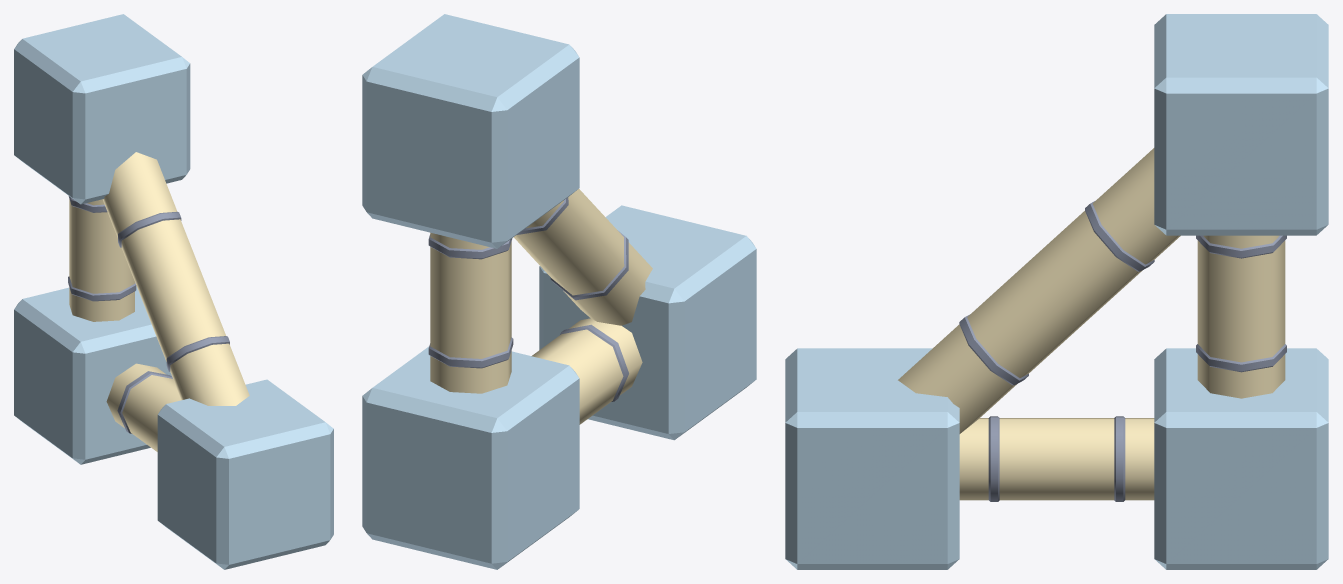
The model's file is R4C_STRUT_RAMP_LOD1.glb.
3 views of the same model, side by side, from view 1: azimuth 30°, elevation 25°; view 2: azimuth 150°, elevation 25°; view 3: azimuth 270°, elevation 25° (orthographic). The views are drawn at different scales.
Visible parts, largest first — view 1: R4C_STRUT_RAMP_LOD1; view 2: R4C_STRUT_RAMP_LOD1; view 3: R4C_STRUT_RAMP_LOD1.
Part boxes in pixels (x1,y1,x2,y2): R4C_STRUT_RAMP_LOD1: (14,14,333,569); R4C_STRUT_RAMP_LOD1: (362,14,756,569); R4C_STRUT_RAMP_LOD1: (785,14,1328,569).
Bounding box in the file's own units: 0.52 × 1.62 × 1.62.
